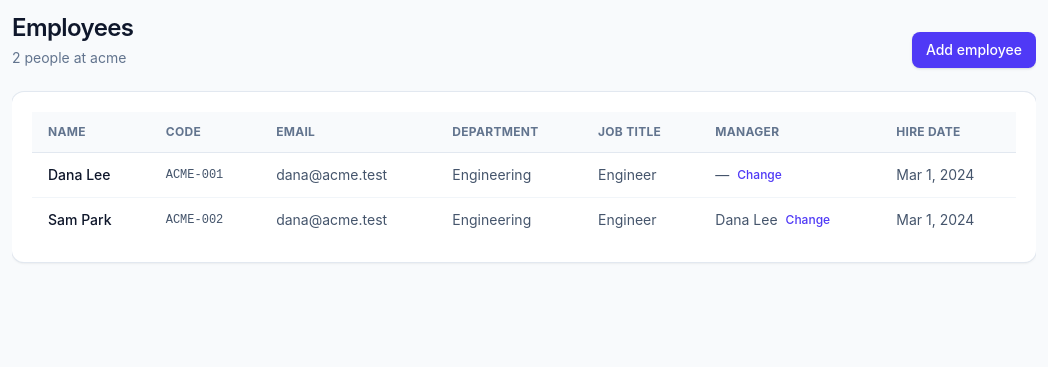
Test case: EmployeesPage › changing managers › lets HR remove a manager
Step 1. Click the button with aria-label "Change manager for Sam Park" → (808, 220), box [786,212,830,228]
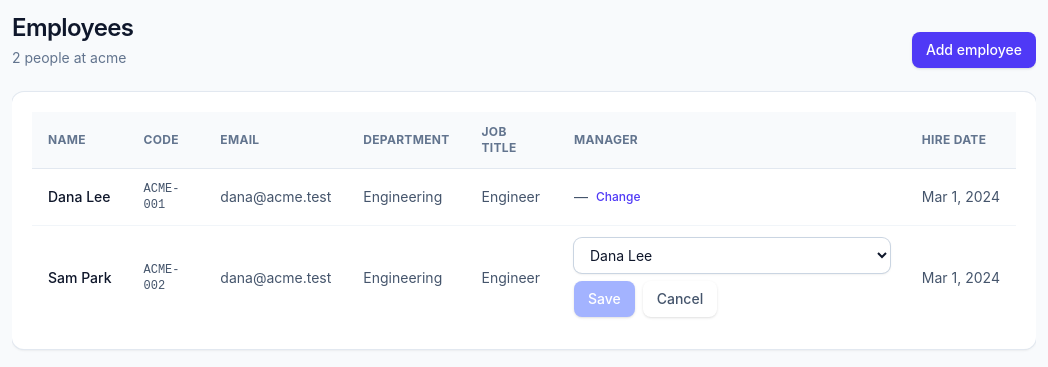
Step 2. Select "No manager (leave goes to HR)" in the dropdown named "New manager for Sam Park" → (732, 256), box [574,238,890,273]
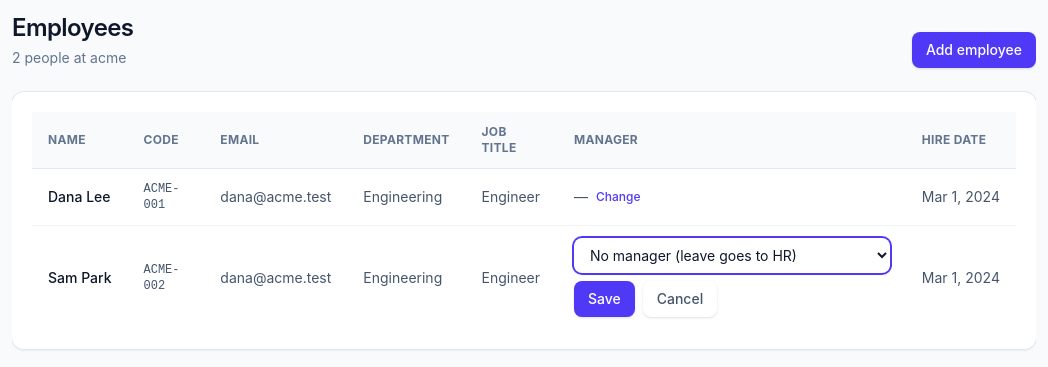
Step 3. Click the button "Save" → (604, 299), box [574,281,635,317]
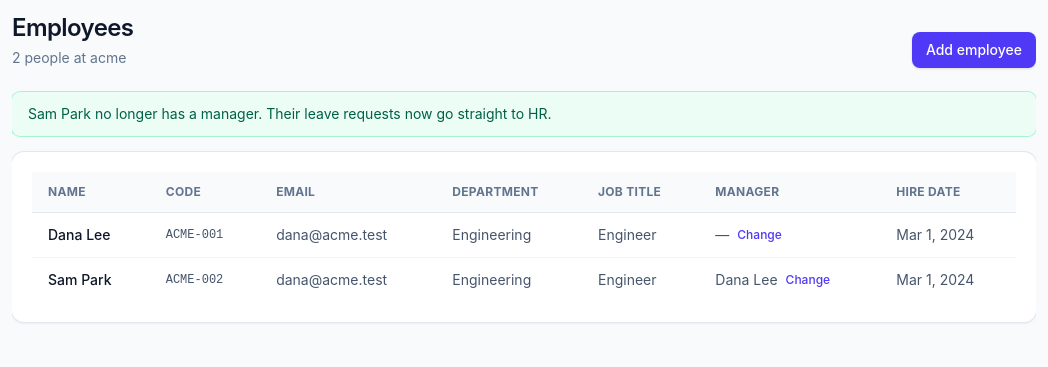
Expected: the text "Sam Park no longer has a manager. Their leave requests now go straight to HR." is shown, [12,92,1036,136]
